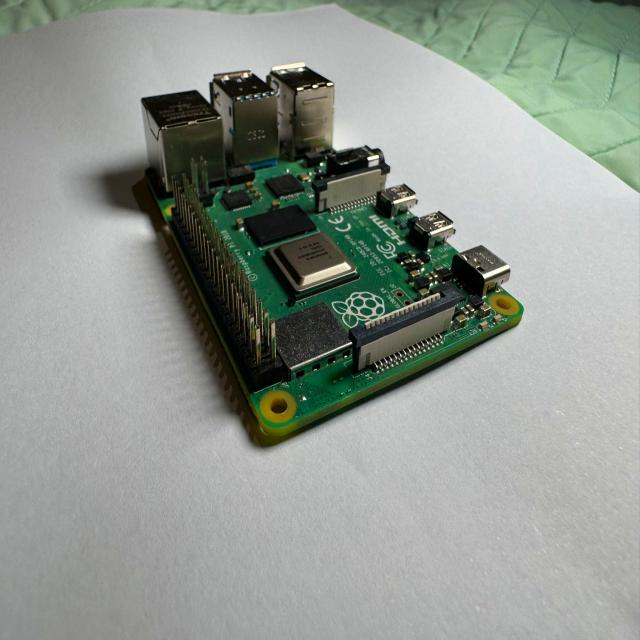CPU: (269, 231, 359, 303)
Ethernet: (140, 91, 228, 200)
GPIO: (164, 184, 288, 392)
RAM: (242, 206, 316, 249)
Raspberry: (133, 71, 525, 450)
micro-hdmi: (380, 183, 417, 218), (413, 212, 448, 245)
